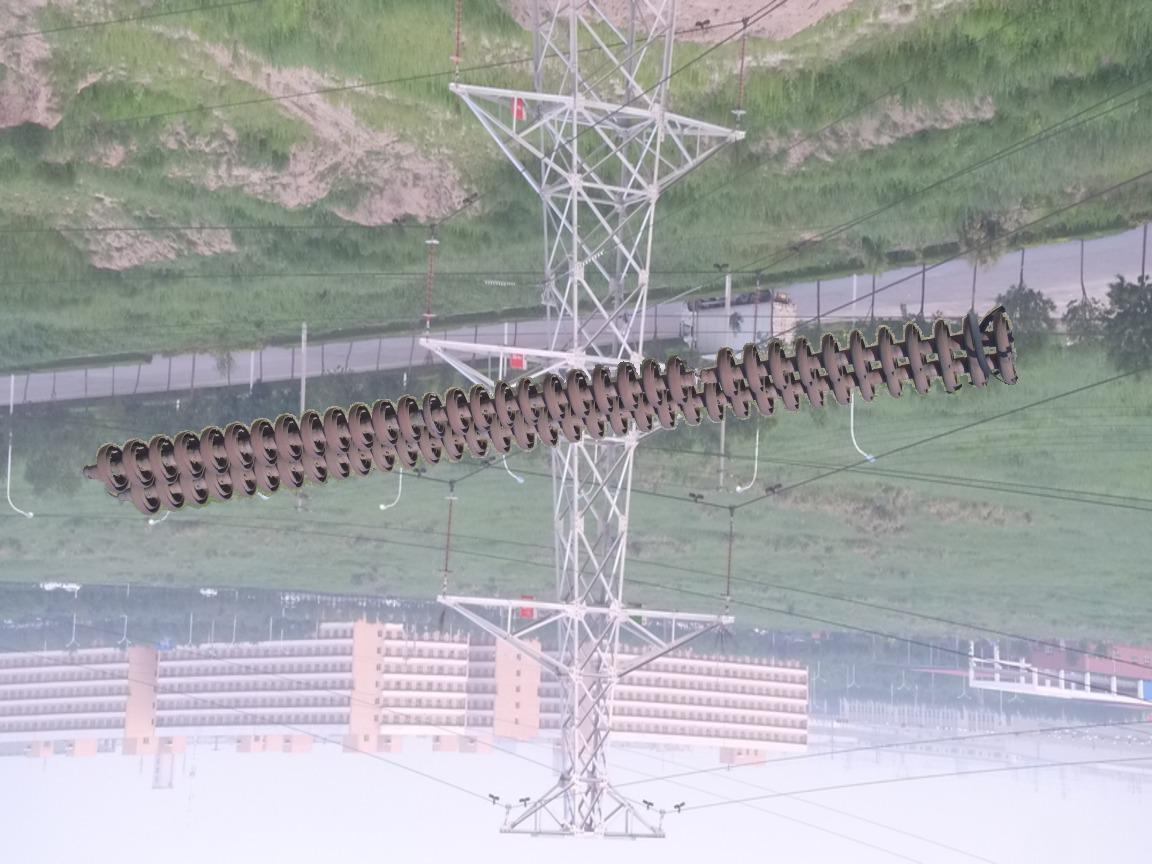insulator: (92, 304, 1024, 527)
insulator_stringdrop: (664, 345, 740, 408)
